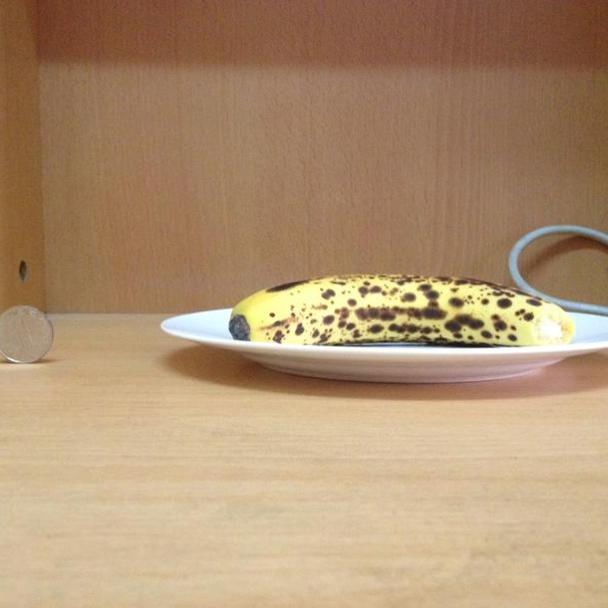banana: (230, 271, 578, 353)
